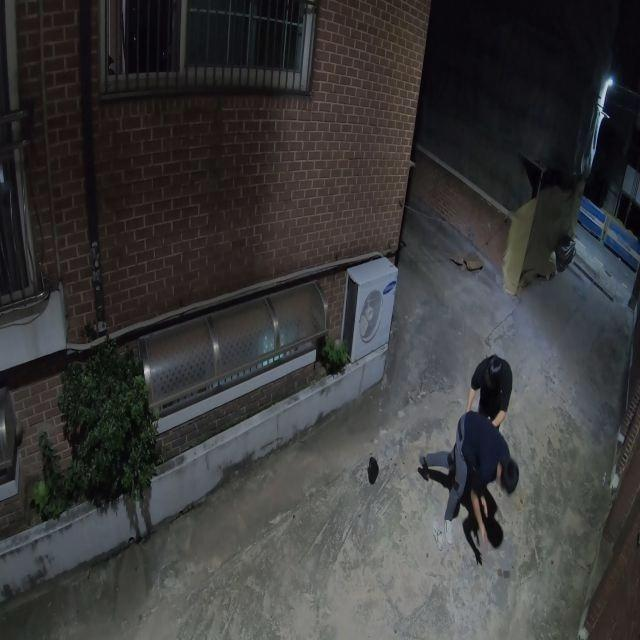fight: (415, 352, 520, 568)
